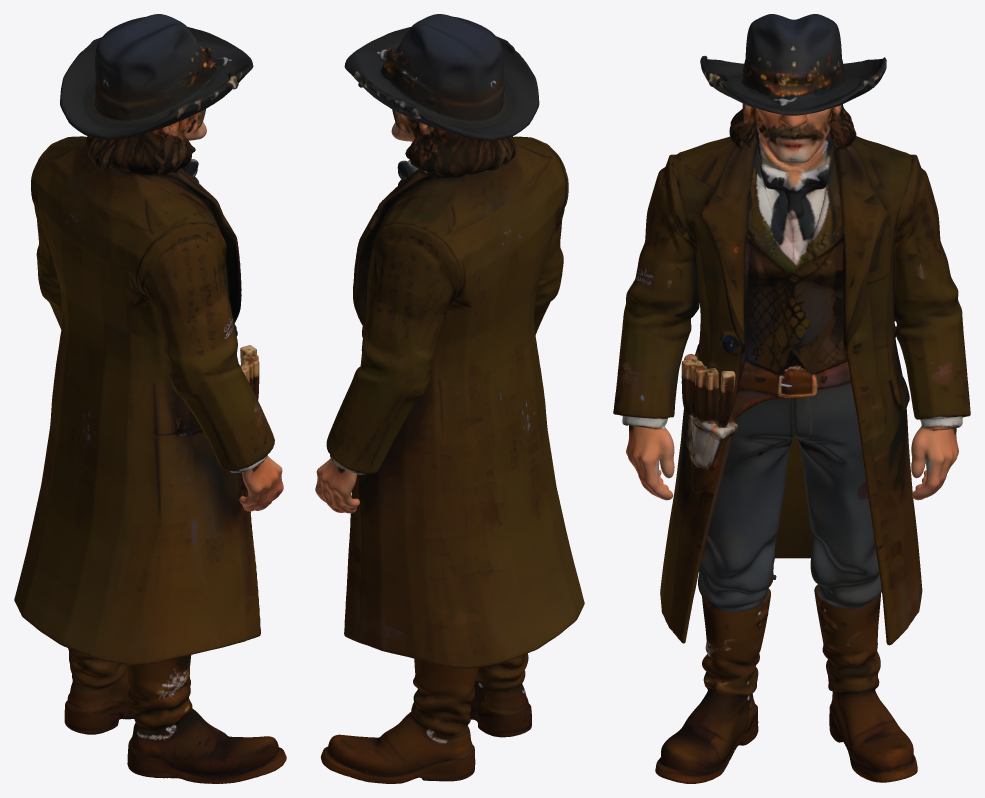
The model's file is stranger_mesh.glb.
3 renders of one model, left to right at view 1: azimuth 30°, elevation 25°; view 2: azimuth 150°, elevation 25°; view 3: azimuth 270°, elevation 25°, orthographic. The views are drawn at different scales.
Parts seen in each view (by area): view 1: tripo_node_fb2da20b-1c45-4638-866d-2993d8d6df97; view 2: tripo_node_fb2da20b-1c45-4638-866d-2993d8d6df97; view 3: tripo_node_fb2da20b-1c45-4638-866d-2993d8d6df97.
Boxes of the visible parts, x1,y1,x2,y2 form: tripo_node_fb2da20b-1c45-4638-866d-2993d8d6df97: [14, 14, 286, 783]; tripo_node_fb2da20b-1c45-4638-866d-2993d8d6df97: [315, 14, 584, 783]; tripo_node_fb2da20b-1c45-4638-866d-2993d8d6df97: [613, 14, 970, 783].
Bounding box in the file's own units: 0.2952 × 1 × 0.4397.
Materials: 1 (1 with a texture image).
